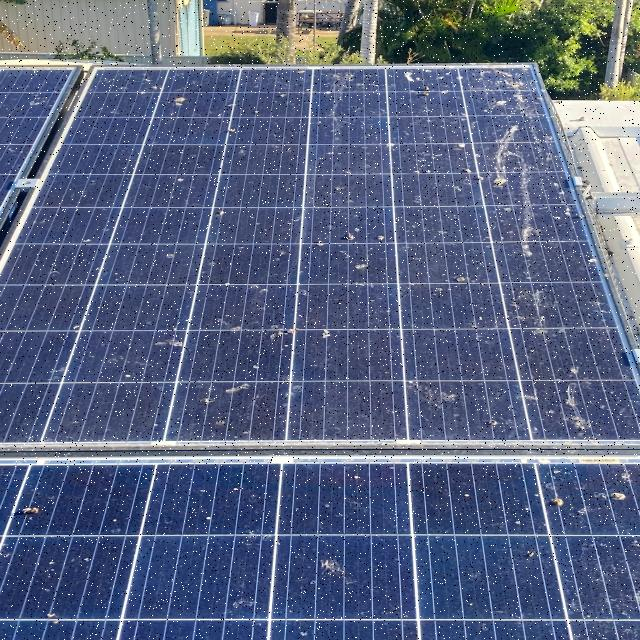bird drop: (229, 66, 633, 448), (442, 469, 640, 640)
